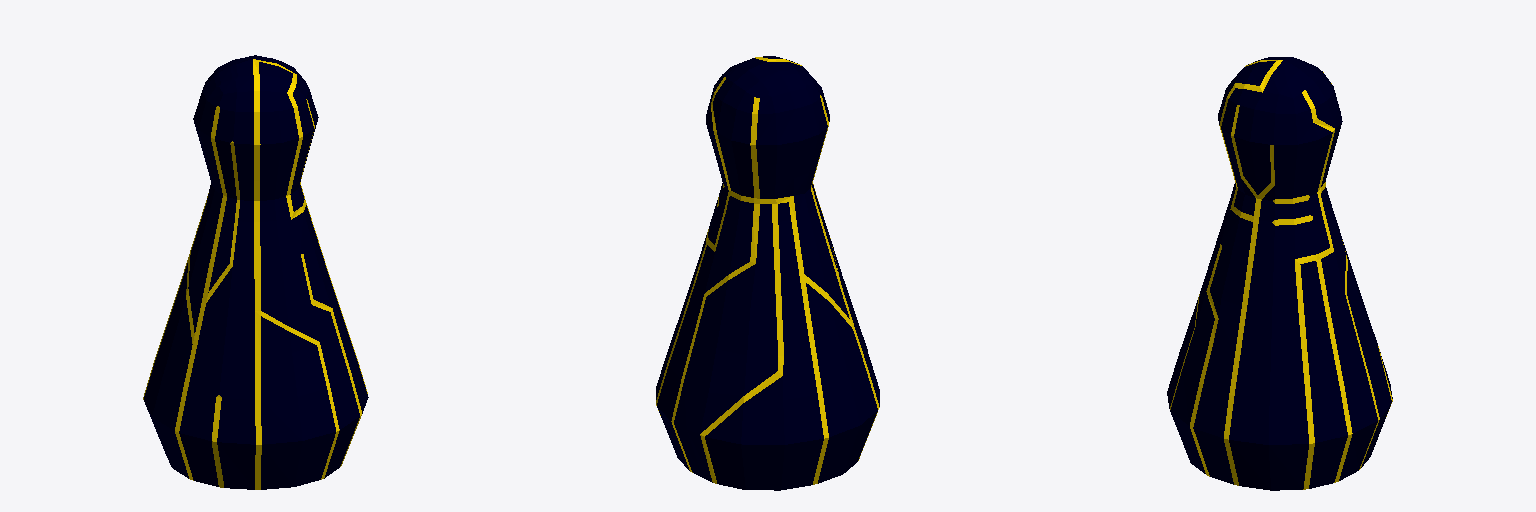
The model's file is chipyellow.obj.
3 renders of one model, left to right at view 1: azimuth 30°, elevation 25°; view 2: azimuth 150°, elevation 25°; view 3: azimuth 270°, elevation 25°, orthographic.
Parts seen in each view (by area): view 1: yellow_Куб.041; view 2: yellow_Куб.041; view 3: yellow_Куб.041.
Boxes of the visible parts, box(x1,y1,x2,y2) form: yellow_Куб.041: box(143, 55, 368, 489); yellow_Куб.041: box(656, 56, 879, 490); yellow_Куб.041: box(1167, 57, 1392, 490).
Bounding box in the file's own units: 0.2382 × 0.4544 × 0.2375.